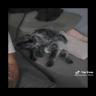dog: (15, 28, 72, 67)
